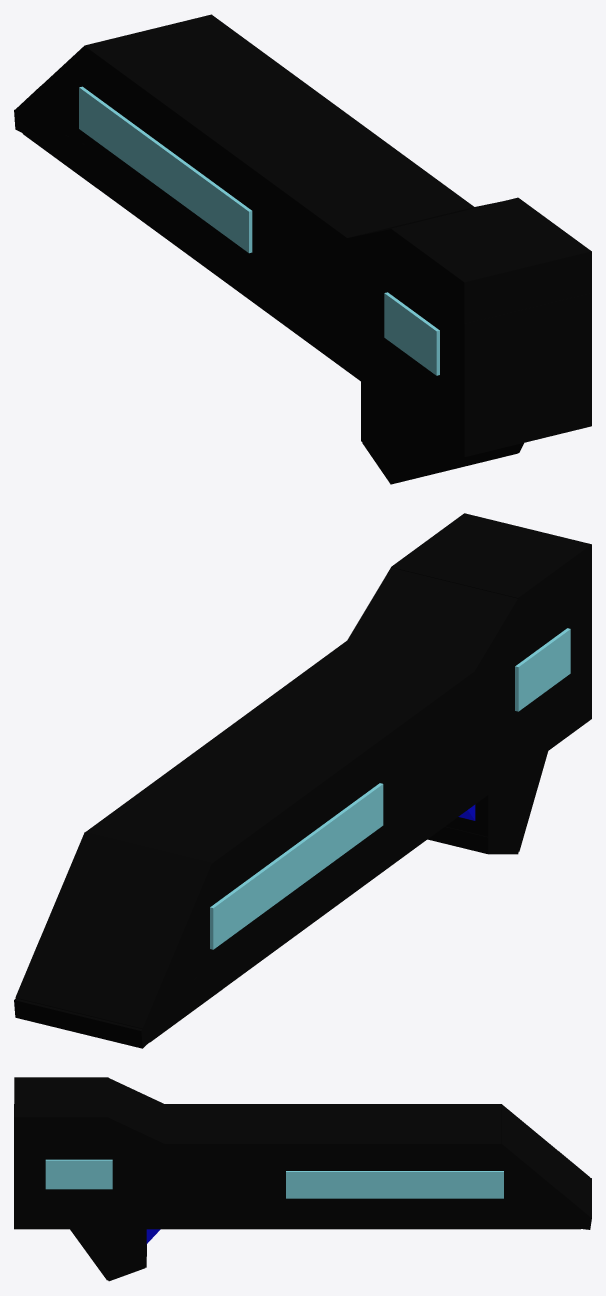
The model's file is Pulse_Gun.fbx.
3 renders of one model, top to bottom at view 1: azimuth 30°, elevation 25°; view 2: azimuth 150°, elevation 25°; view 3: azimuth 270°, elevation 25°, orthographic. The views are drawn at different scales.
Parts seen in each view (by area): view 1: pCube16; view 2: pCube16; view 3: pCube16.
Part boxes in pixels (x1,y1,x2,y2): pCube16: (14, 14, 591, 484); pCube16: (14, 513, 591, 1048); pCube16: (14, 1077, 591, 1281).
Bounding box in the file's own units: 1.05 × 1.92 × 6.13.
